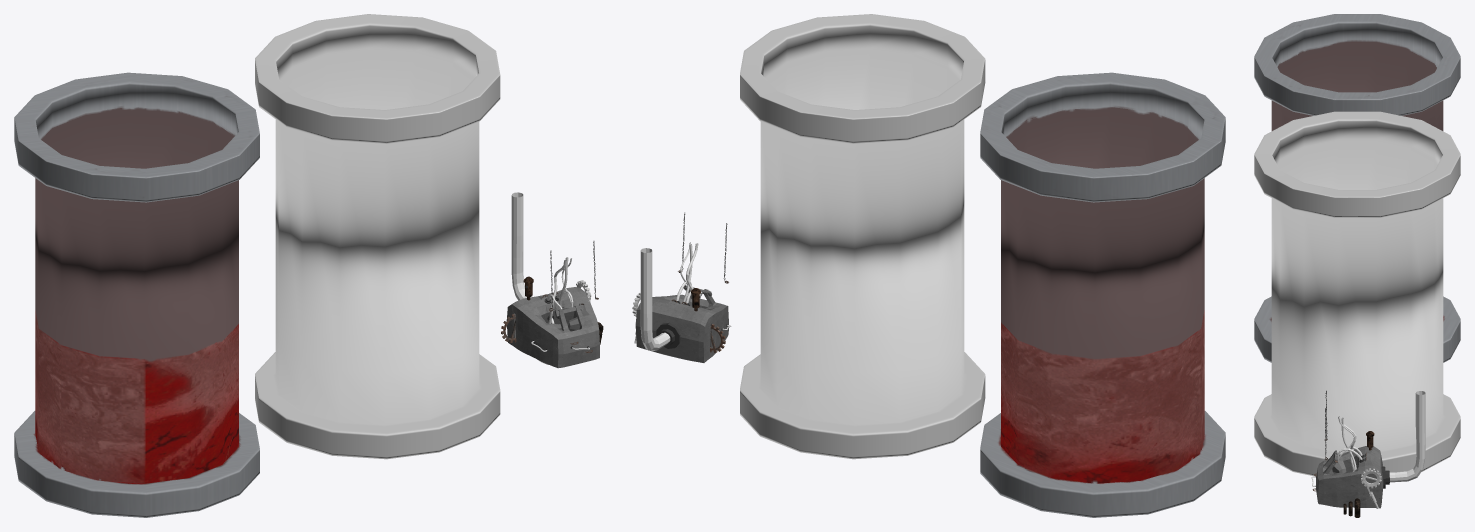
The model's file is Maquinq.fbx.
The picture shows the model from 3 angles, left to right: view 1: azimuth 30°, elevation 25°; view 2: azimuth 150°, elevation 25°; view 3: azimuth 270°, elevation 25°; orthographic projection. The views are drawn at different scales.
Visible parts, largest first — view 1: Cylinder.034, Cylinder.016, Cube, Cylinder.013; view 2: Cylinder.034, Cylinder.016, Cube, Cylinder.013; view 3: Cylinder.034, Cylinder.016, Cube, Cylinder.013, Circle.002.
Part boxes in pixels (bbox=[...]): Cylinder.034: bbox=[255, 14, 500, 459]; Cylinder.016: bbox=[14, 72, 259, 517]; Cube: bbox=[506, 287, 599, 368]; Cylinder.013: bbox=[511, 192, 526, 300]; Cylinder.034: bbox=[740, 14, 985, 459]; Cylinder.016: bbox=[980, 72, 1225, 517]; Cube: bbox=[635, 285, 728, 362]; Cylinder.013: bbox=[640, 248, 670, 350]; Cylinder.034: bbox=[1254, 111, 1460, 476]; Cylinder.016: bbox=[1254, 14, 1460, 362]; Cube: bbox=[1316, 446, 1383, 508]; Cylinder.013: bbox=[1389, 391, 1425, 482]; Circle.002: bbox=[1361, 468, 1381, 488].
Bounding box in the file's own units: 1299 × 741 × 489.
